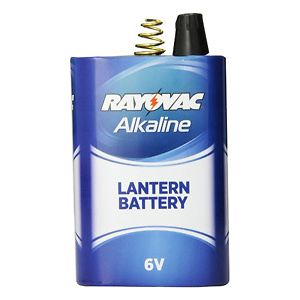6V: (63, 10, 230, 290)
